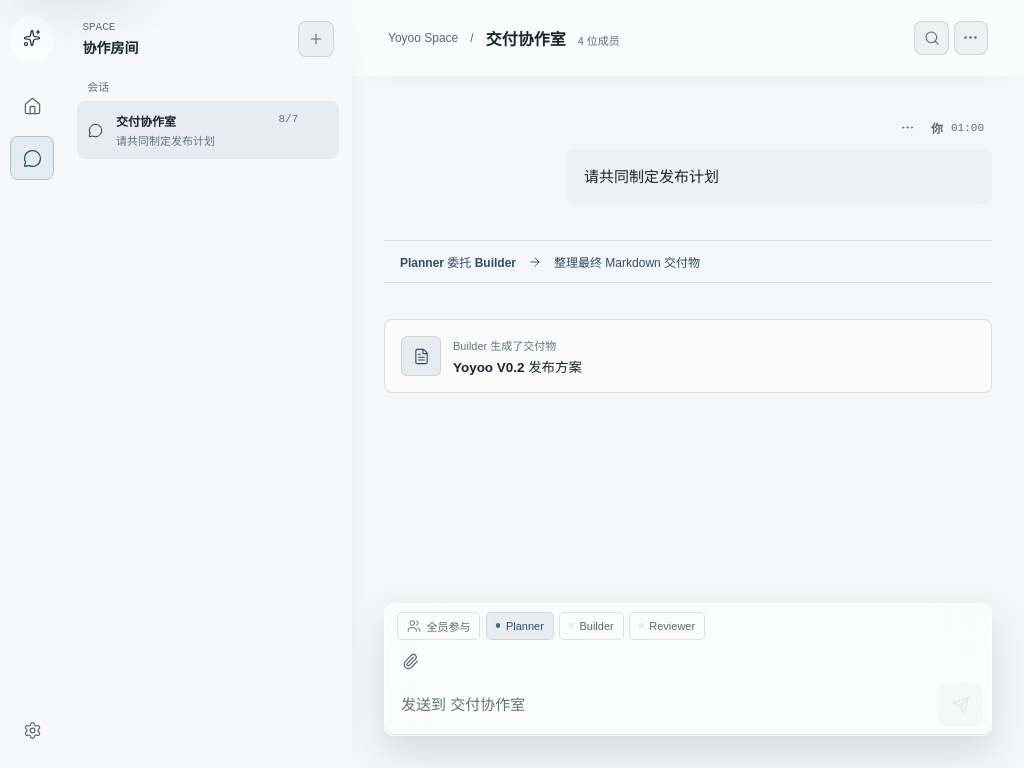
Test: CollaborationRoom › edits and retracts an owned completed message with confirmation
Expected: the heading "交付协作室" is shown, [486,26,566,50]
Click the button named "消息操作": (907, 128) [894,114,921,141]
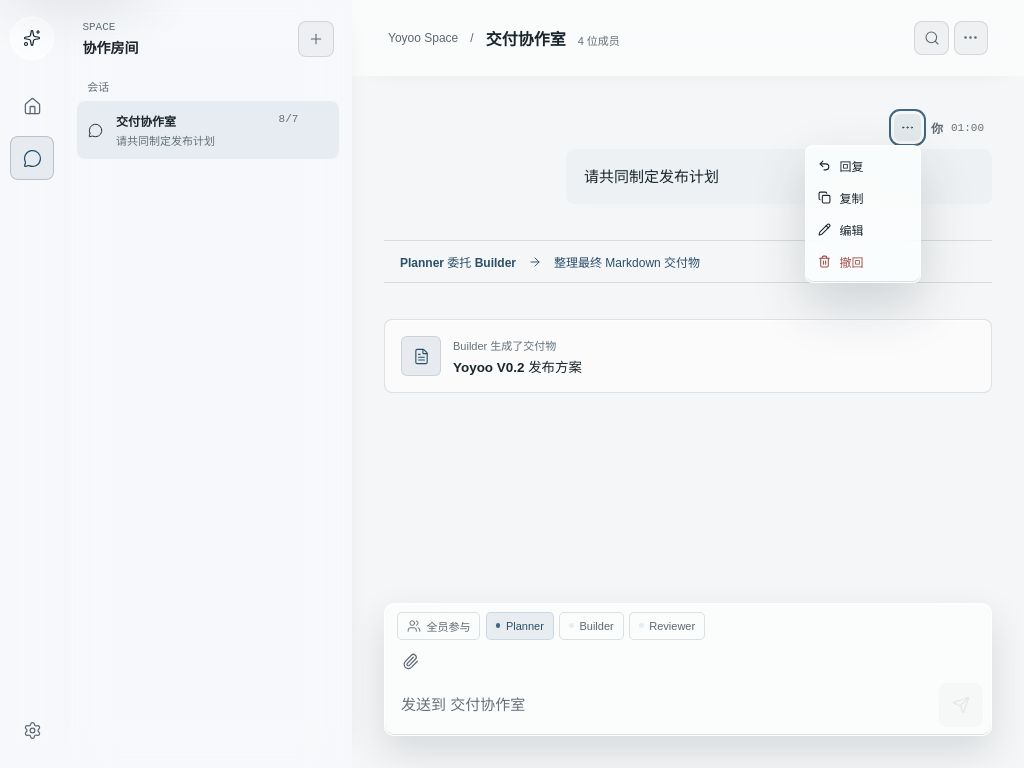
Click the menu item "编辑": (863, 230) [810,214,916,246]
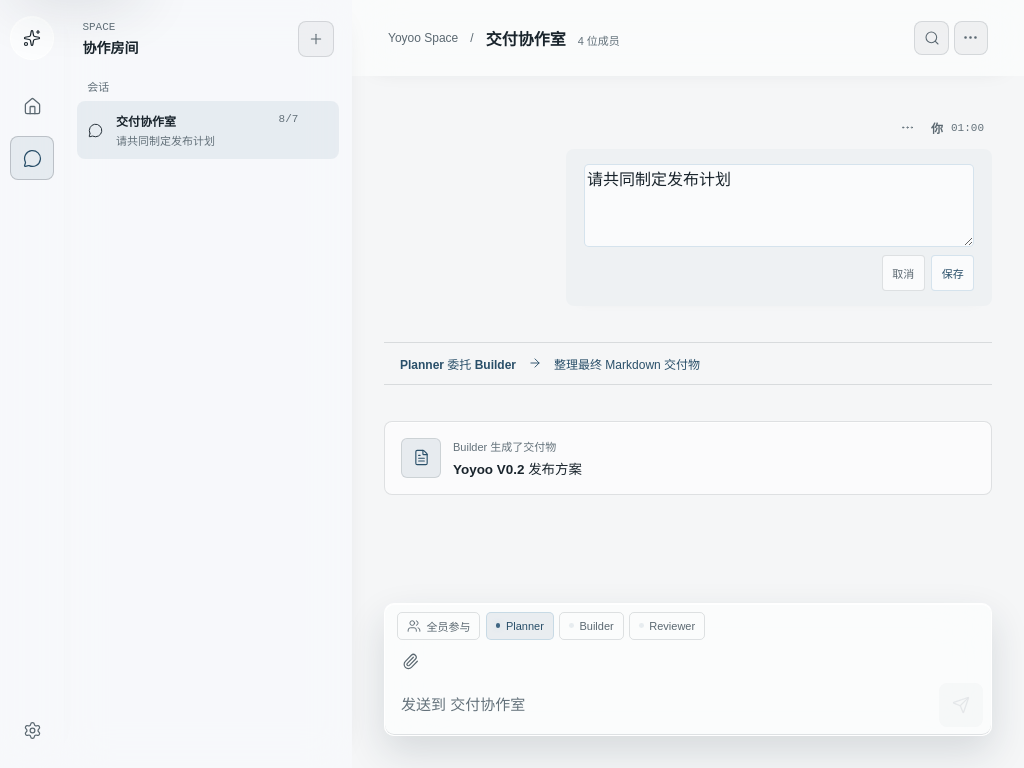
Replace the text in the text box named "编辑消息" with "发布计划已经更新": (779, 205) [584,164,974,247]
Click the button "保存": (953, 273) [931,255,974,291]
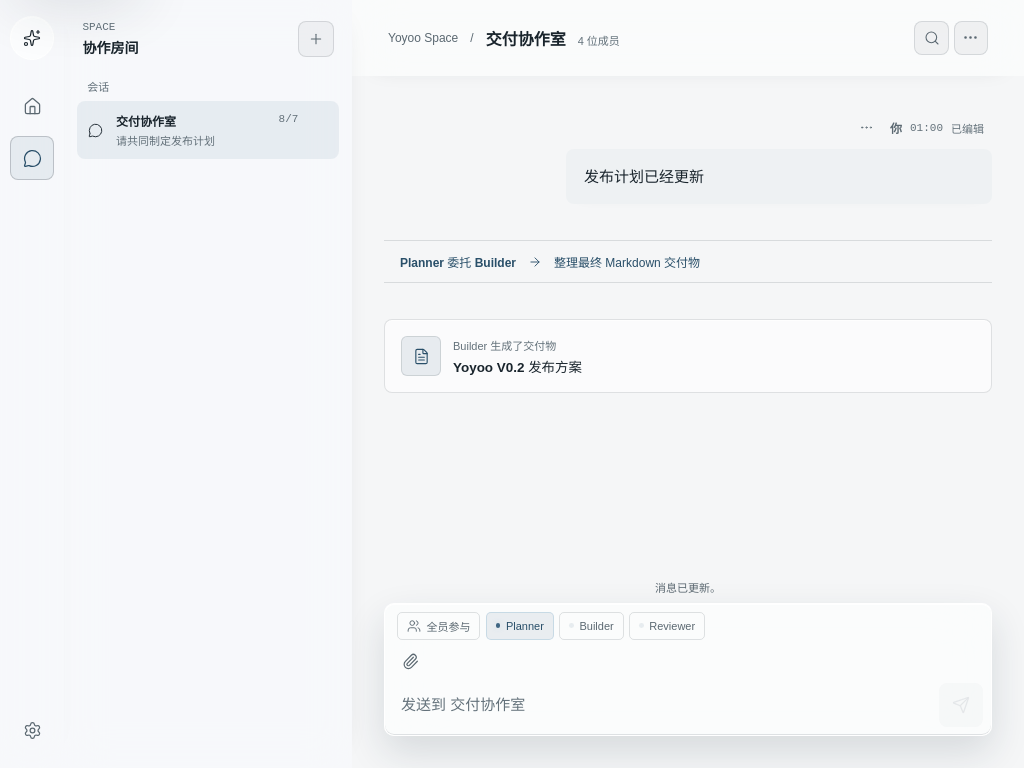
Result: the text "已编辑" is shown at [951,120,984,136]
Click the button named "消息操作": (866, 128) [853,114,880,141]
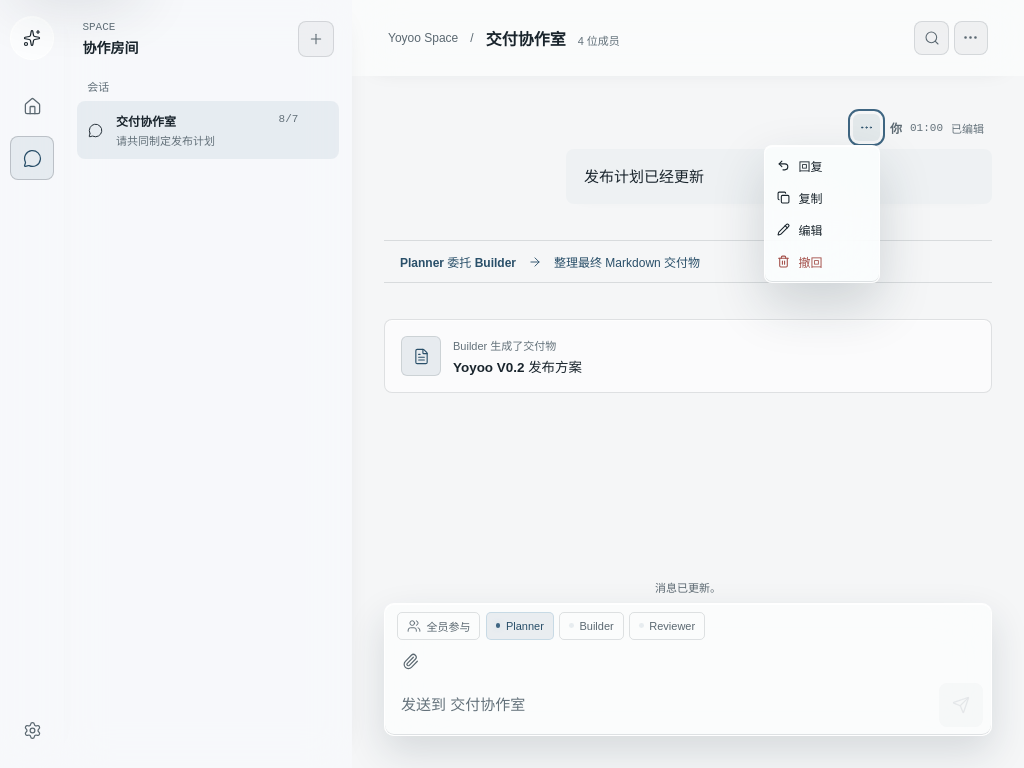
Click the menu item "撤回": (822, 262) [769,246,875,278]
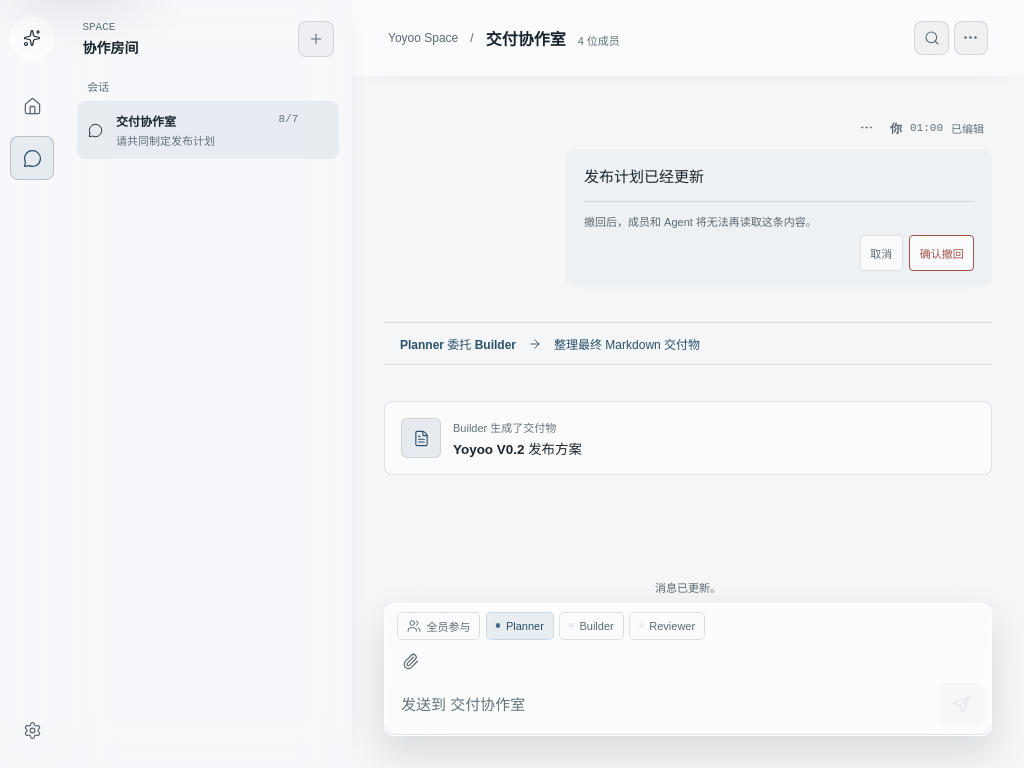
Result: the dialog named "确认撤回消息" is shown at [584,201,974,271]
Click the button "确认撤回": (942, 253) [909,235,974,271]
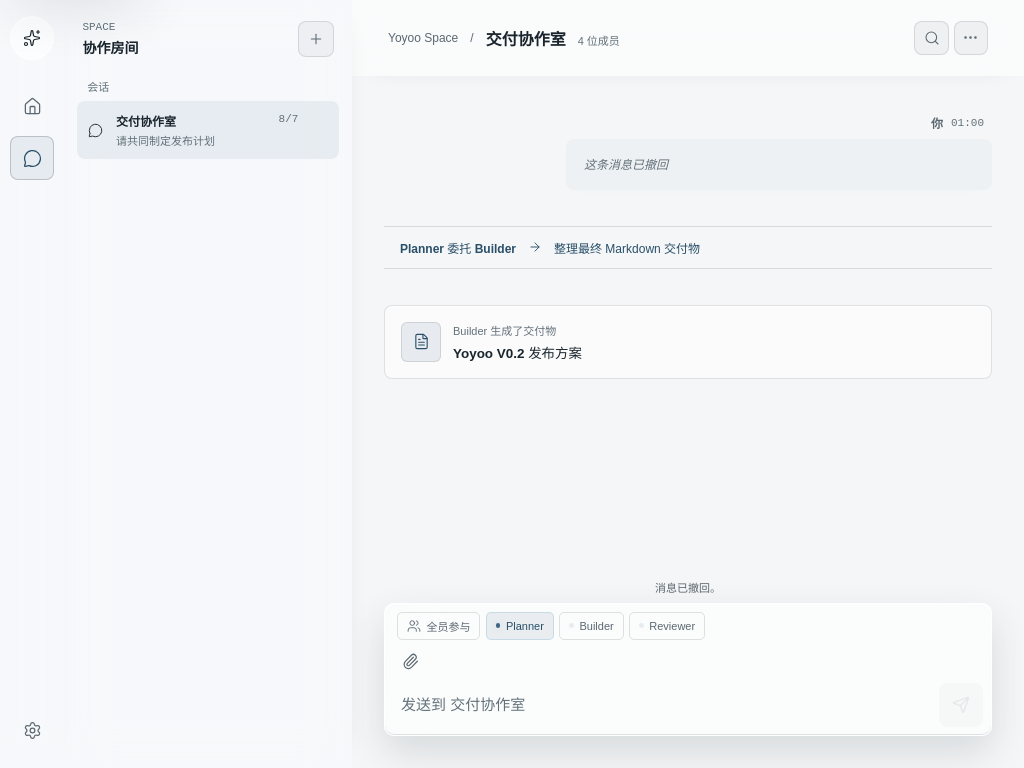
Result: the text "这条消息已撤回" is shown at [584,158,668,172]
